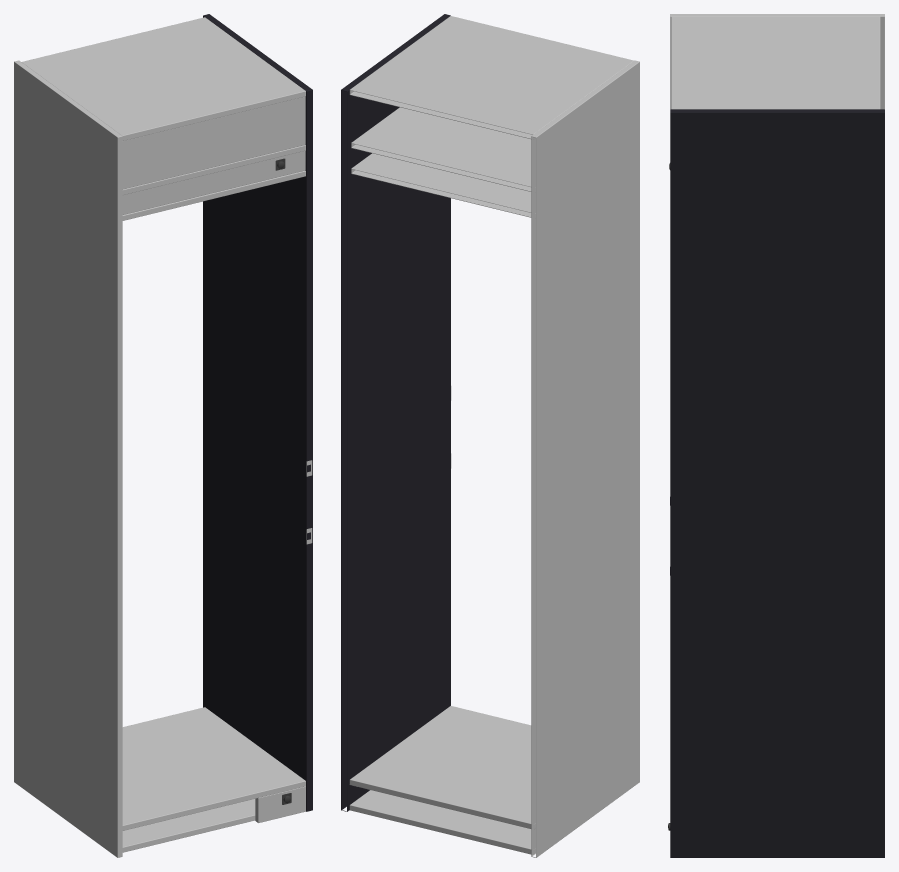
File: SM_Kitchen_03_Fridge.dae
The picture shows the model from 3 angles, left to right: view 1: azimuth 30°, elevation 25°; view 2: azimuth 150°, elevation 25°; view 3: azimuth 270°, elevation 25°; orthographic projection. The views are drawn at different scales.
Visible parts, largest first — view 1: SM_Kitchen_03_Fridge; view 2: SM_Kitchen_03_Fridge; view 3: SM_Kitchen_03_Fridge.
Boxes of the visible parts, x1,y1,x2,y2 form: SM_Kitchen_03_Fridge: (14,14,312,857); SM_Kitchen_03_Fridge: (341,14,639,857); SM_Kitchen_03_Fridge: (668,14,884,857).
Size of the model in its own units: 0.6039 by 0.5609 by 2.13.
